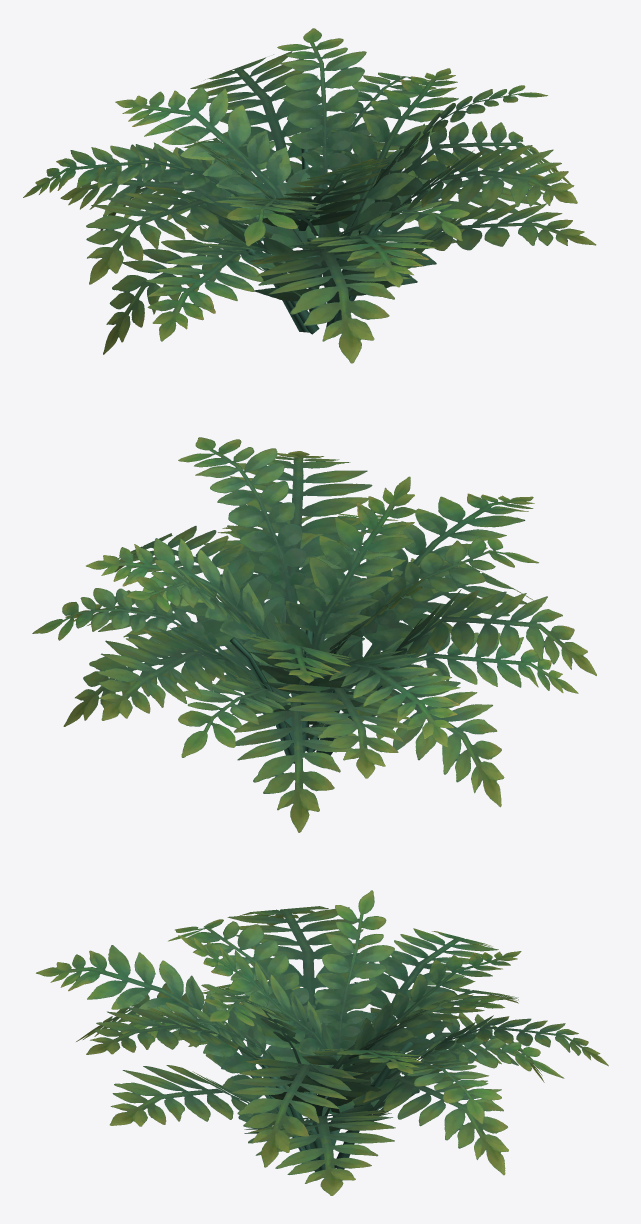
The model's file is Stages_MdGrass_28.fbx.
3 renders of one model, top to bottom at view 1: azimuth 30°, elevation 25°; view 2: azimuth 150°, elevation 25°; view 3: azimuth 270°, elevation 25°, orthographic. The views are drawn at different scales.
Parts seen in each view (by area): view 1: Stages_MdGrass_28_Lod0; view 2: Stages_MdGrass_28_Lod0; view 3: Stages_MdGrass_28_Lod0.
Boxes of the visible parts, left/top/right/bottom form: Stages_MdGrass_28_Lod0: left=23, top=28, right=596, bottom=363; Stages_MdGrass_28_Lod0: left=32, top=437, right=596, bottom=832; Stages_MdGrass_28_Lod0: left=36, top=890, right=608, bottom=1195.
Size of the model in its own units: 2.35 by 1.03 by 2.46.
Materials: 1 (1 with a texture image).
